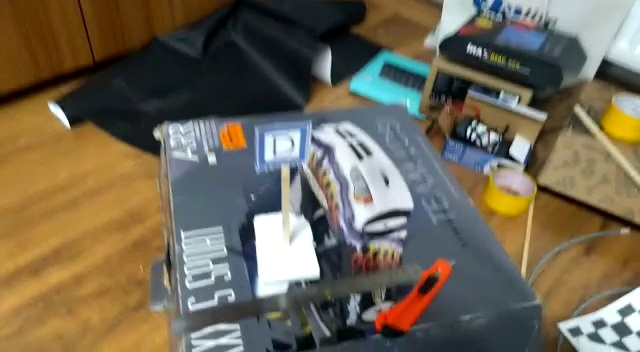durak: (250, 123, 313, 168)
